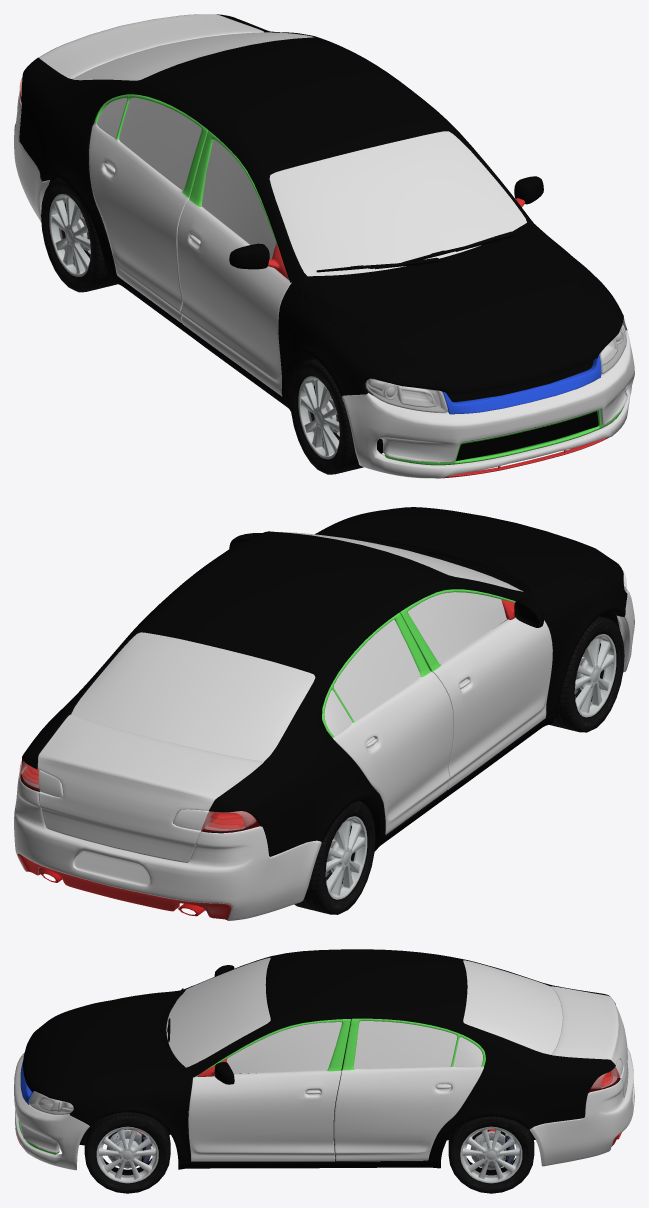
Rendered from sedan_hologram.glb.
3 views of the same model, one above another, from view 1: azimuth 30°, elevation 25°; view 2: azimuth 150°, elevation 25°; view 3: azimuth 270°, elevation 25° (orthographic). The views are drawn at different scales.
Parts seen in each view (by area): view 1: Chassis_Main, Chassis_Glass, Trunk, Wheel_FR, Wheel_RR, Headlights; view 2: Chassis_Main, Chassis_Glass, Trunk, Wheel_FR, Wheel_RR, Taillights; view 3: Chassis_Main, Chassis_Glass, Wheel_FL, Wheel_RL, Trunk, Headlights, Taillights.
Part boxes in pixels (x1,y1,x2,y2): Chassis_Main: [14, 14, 634, 478]; Chassis_Glass: [72, 32, 526, 276]; Trunk: [38, 14, 263, 78]; Wheel_FR: [290, 358, 363, 474]; Wheel_RR: [41, 178, 117, 292]; Headlights: [365, 319, 626, 412]; Chassis_Main: [14, 507, 634, 920]; Chassis_Glass: [71, 532, 523, 761]; Trunk: [37, 714, 263, 862]; Wheel_FR: [549, 616, 624, 732]; Wheel_RR: [294, 800, 375, 914]; Taillights: [19, 759, 260, 832]; Chassis_Main: [14, 949, 634, 1170]; Chassis_Glass: [166, 957, 562, 1073]; Wheel_FL: [84, 1112, 170, 1193]; Wheel_RL: [448, 1116, 534, 1193]; Trunk: [551, 986, 628, 1097]; Headlights: [29, 1091, 73, 1114]; Taillights: [589, 1067, 619, 1092].
Bounding box in the file's own units: 2.1 × 1.5 × 4.98.
19 materials, 4 textured.
